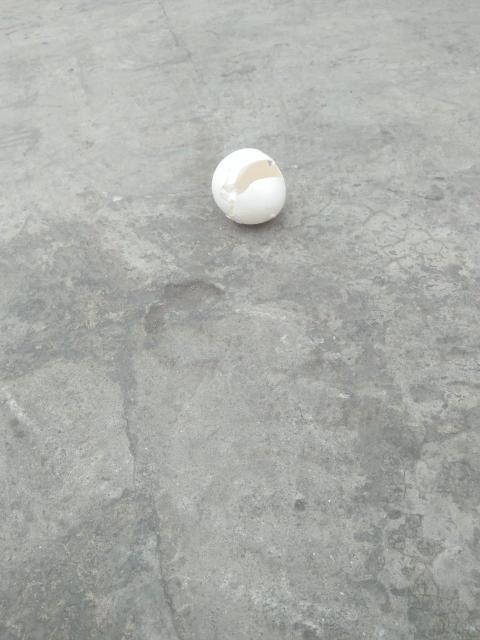Roto: (211, 147, 286, 226)
